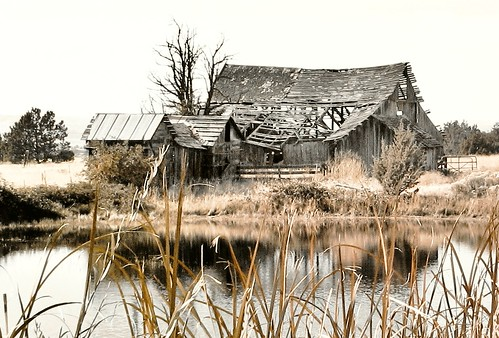building: (99, 63, 448, 183)
river: (1, 228, 499, 338)
sky: (1, 1, 493, 124)
tree: (1, 105, 75, 163)
